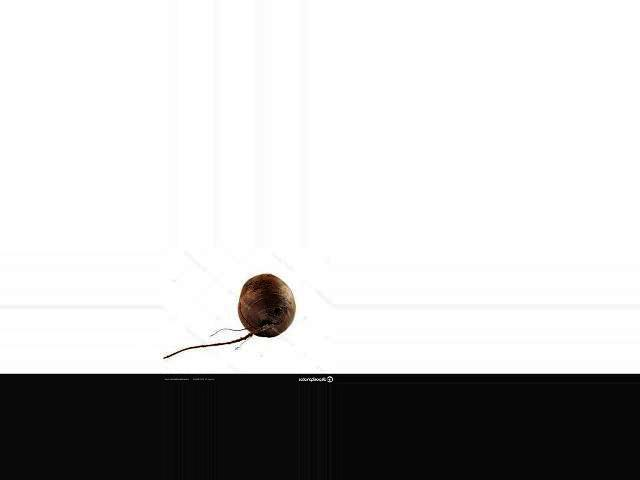beet: (162, 274, 294, 359)
